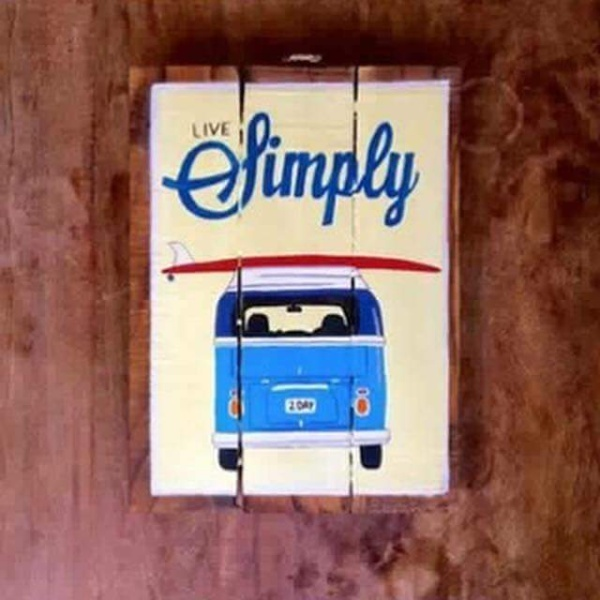text: (161, 110, 176, 228), (177, 110, 192, 228), (193, 110, 208, 228), (209, 110, 224, 228), (225, 110, 240, 228), (241, 110, 256, 228), (257, 110, 272, 228), (273, 110, 288, 228), (289, 110, 304, 228), (305, 110, 320, 228), (321, 110, 336, 228), (337, 110, 352, 228), (353, 110, 368, 228), (369, 110, 384, 228), (385, 110, 400, 228), (401, 110, 416, 228), (417, 110, 421, 228), (193, 121, 208, 139), (209, 121, 224, 139), (289, 400, 304, 412), (305, 400, 316, 412), (159, 110, 160, 228), (225, 121, 230, 139), (286, 400, 288, 412)
